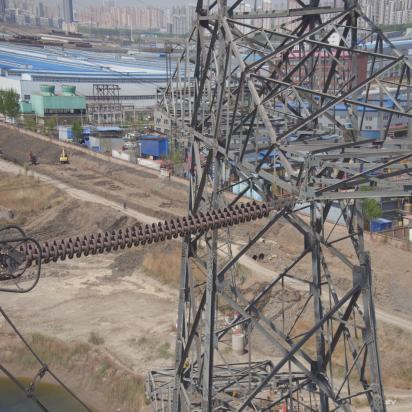insulator: (19, 199, 284, 266)
